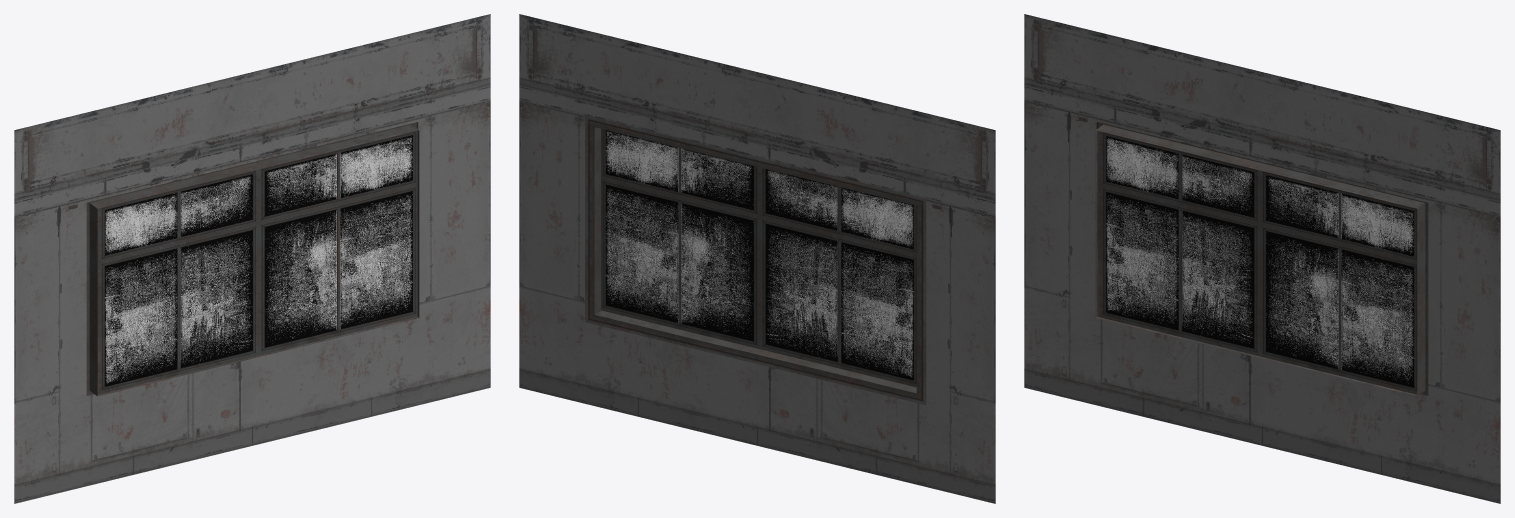
The model's file is ARC0910207.fbx.
3 views of the same model, side by side, from view 1: azimuth 30°, elevation 25°; view 2: azimuth 150°, elevation 25°; view 3: azimuth 330°, elevation 25° (orthographic).
Visible parts, largest first — view 1: smARC0910207; view 2: smARC0910207; view 3: smARC0910207.
Part boxes in pixels (x1=…): smARC0910207: x1=14, y1=14, x2=490, y2=503; smARC0910207: x1=519, y1=14, x2=995, y2=503; smARC0910207: x1=1024, y1=14, x2=1500, y2=503.
Bounding box in the file's own units: 400 × 300 × 11.4.
1 material, 1 textured.
